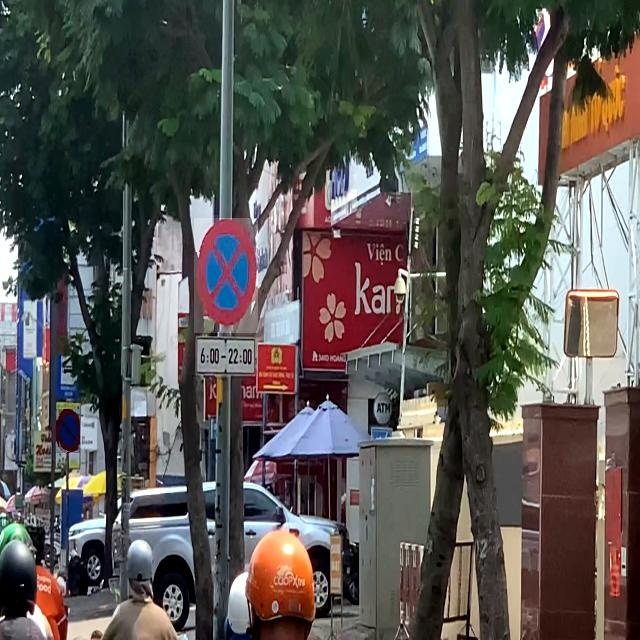bien_cam: (194, 218, 258, 333), (56, 409, 80, 453)
